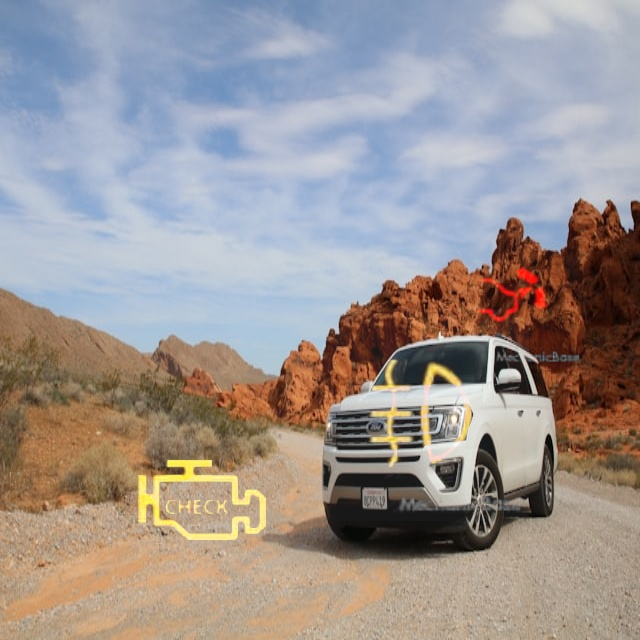symbol: (317, 309, 529, 521), (107, 407, 295, 595), (439, 223, 585, 369)
